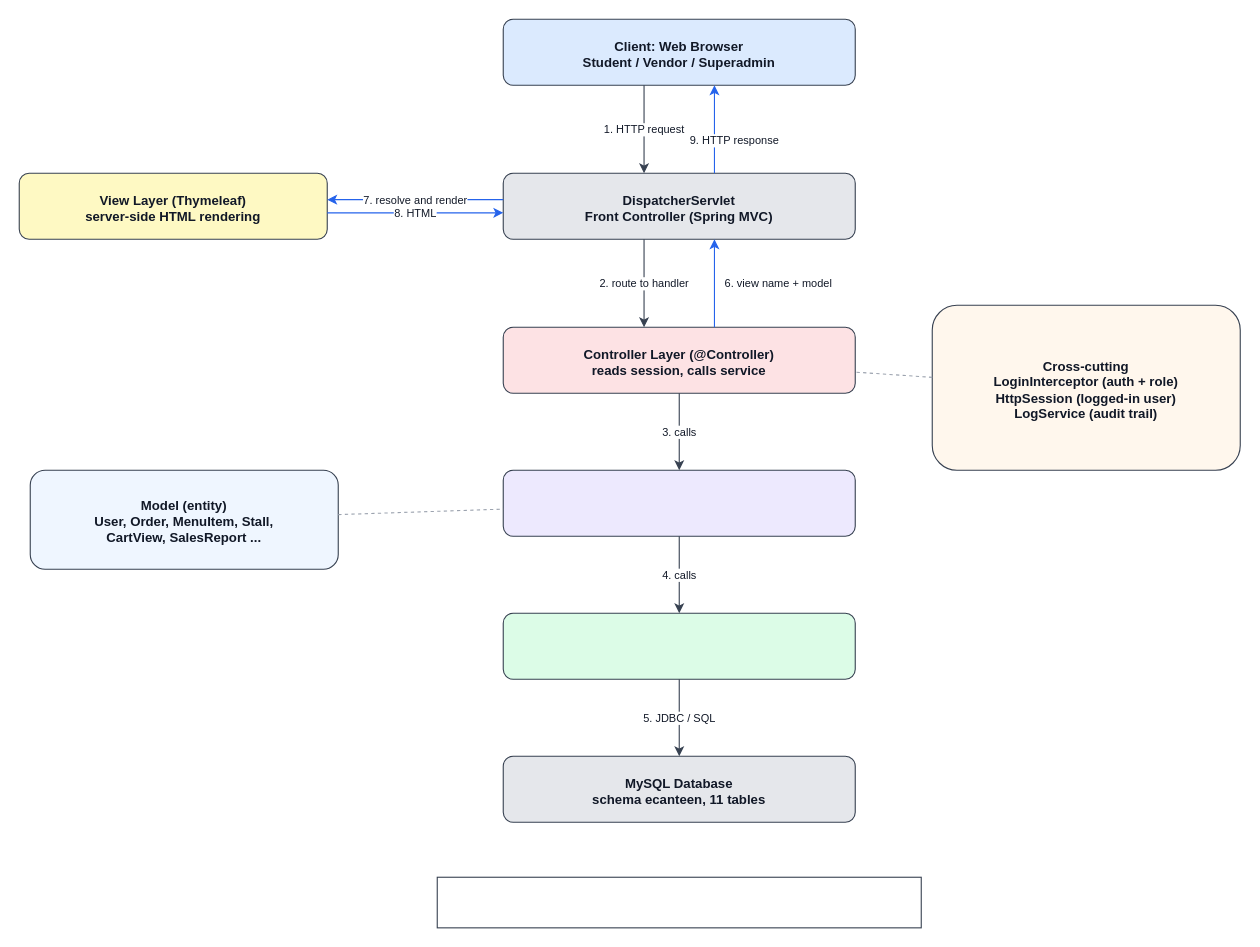
Image size: 1260x947. Some labels were removed from this diagram. Each missing label, with the box of its shape:
Layered Architecture and Request/Response Flow of E-Canteen: (436, 876, 921, 928)
Persistence Layer / DAO MyBatis mapper interface + XML SQL: (502, 612, 855, 679)
Service Layer (@Service) business logic: checkout, discounts, stock, BCrypt: (502, 469, 855, 536)
